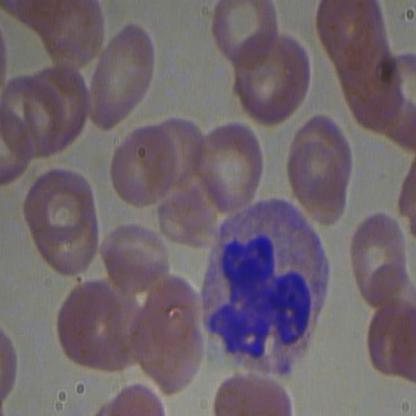RBC: (228, 23, 314, 128), (80, 19, 156, 136), (194, 120, 268, 218), (0, 60, 67, 166), (344, 207, 412, 311), (24, 169, 98, 253), (287, 134, 351, 226), (106, 123, 175, 207), (98, 220, 174, 291), (207, 0, 282, 70), (210, 371, 301, 415)
WBC: (194, 196, 335, 382)
